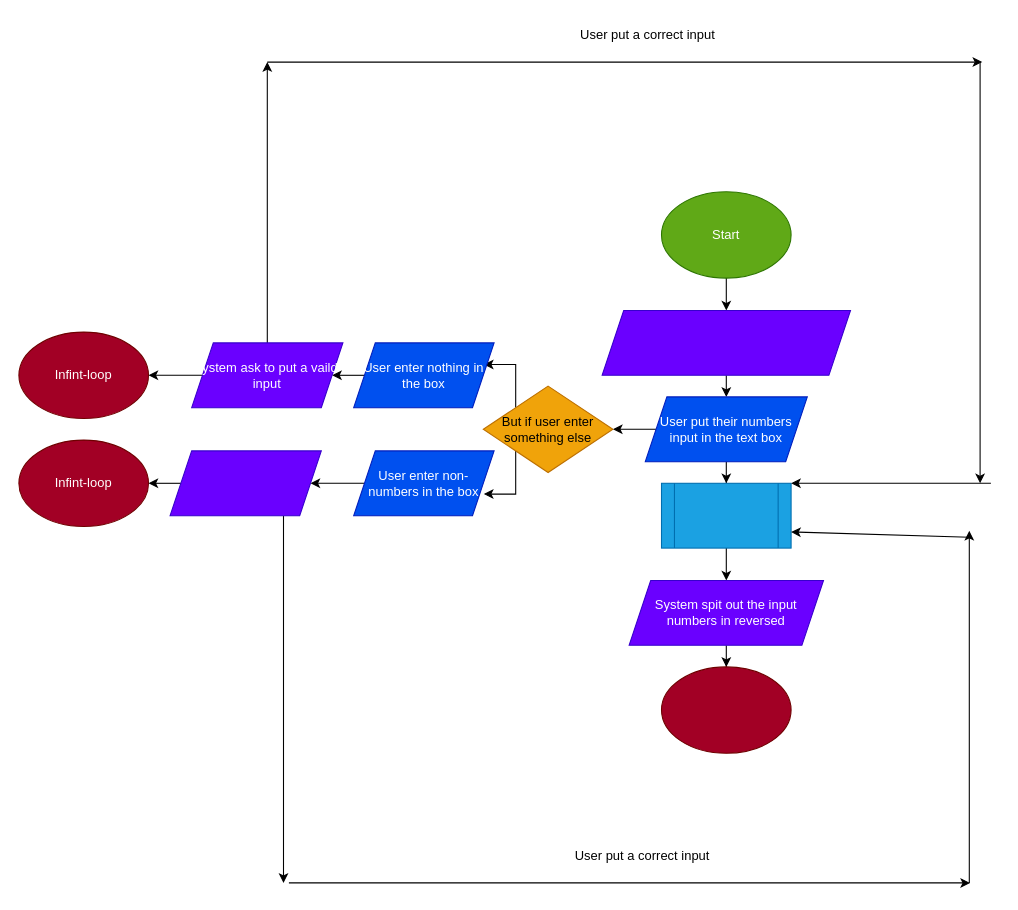
This 1018x910 diagram has some shape labels left out. The centre of each missing label's shape, as x and y in pixels:
End: the point at 725,709
System ask for a vaid input: the point at 245,483
System have a text where it will do what you type with number backwards: the point at 725,342
System process the information that it took for the user: the point at 725,515
